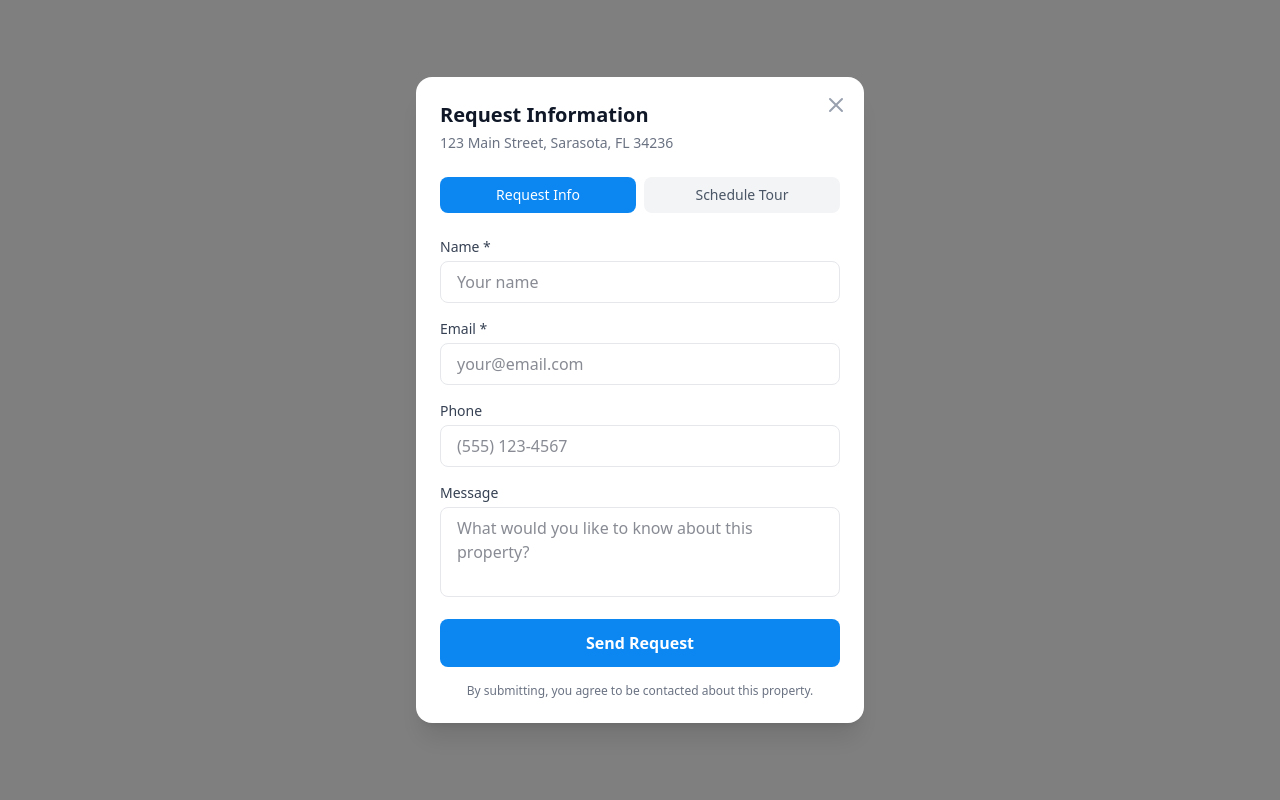
LeadCaptureModal › shows success message after successful submission
In the field labelled "Name *": (640, 282) 440,261 -> 840,303, type "Jane Doe"
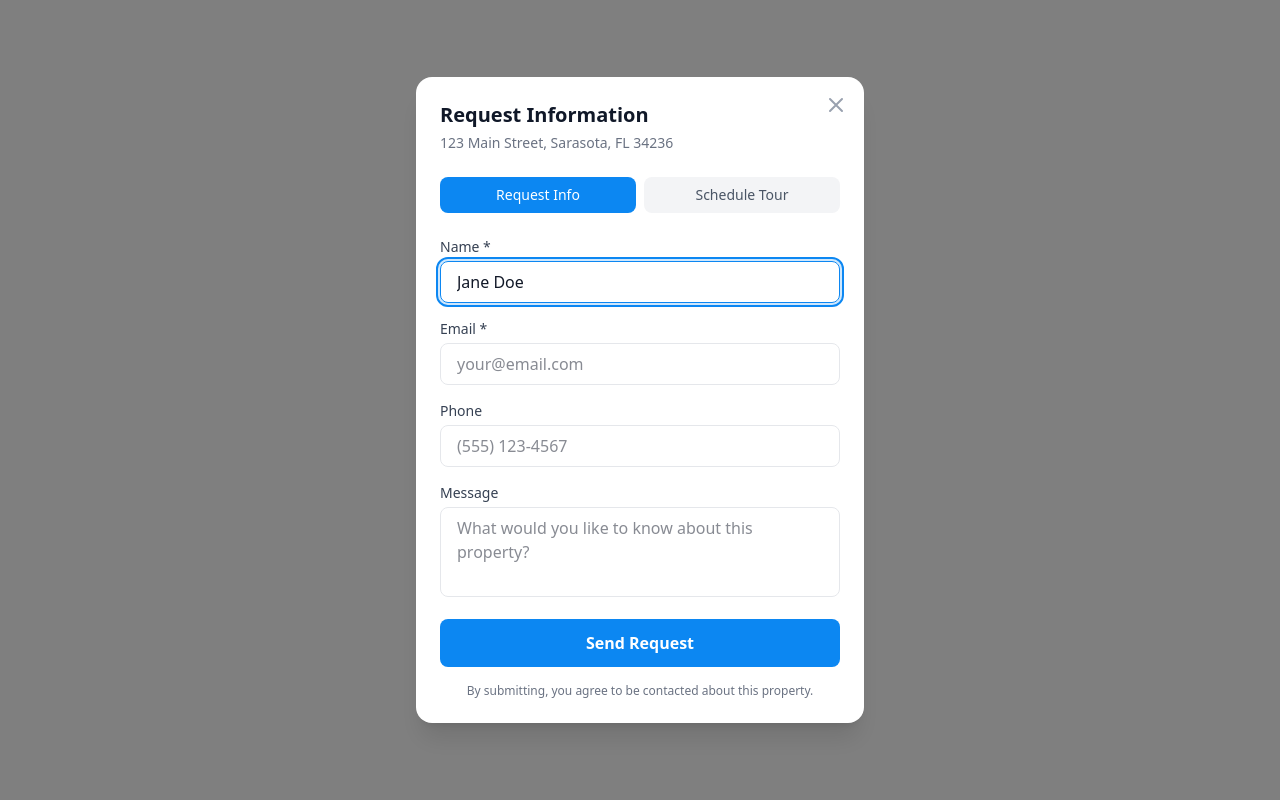
In the field labelled "Email *": (640, 364) 440,343 -> 840,385, type "jane@example.com"
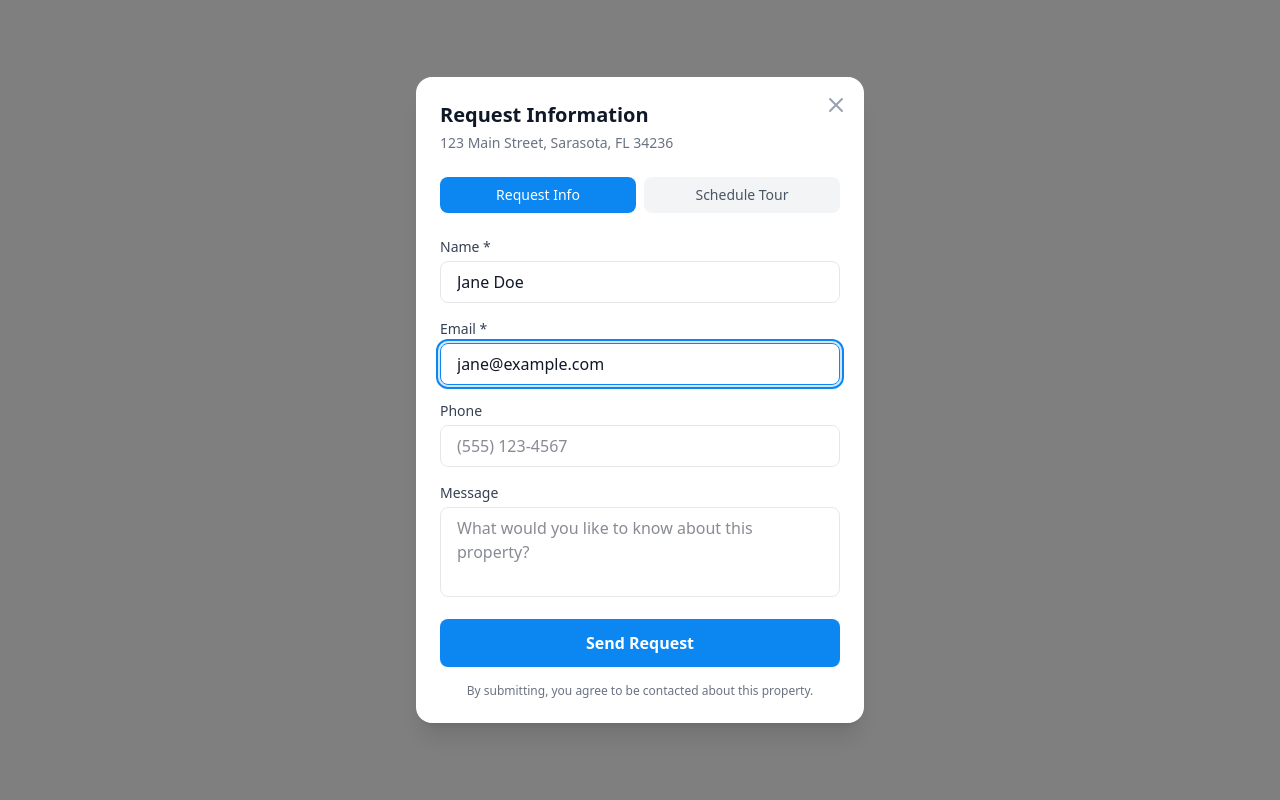
Click the button "Send Request": click(640, 643) 440,619 -> 840,667
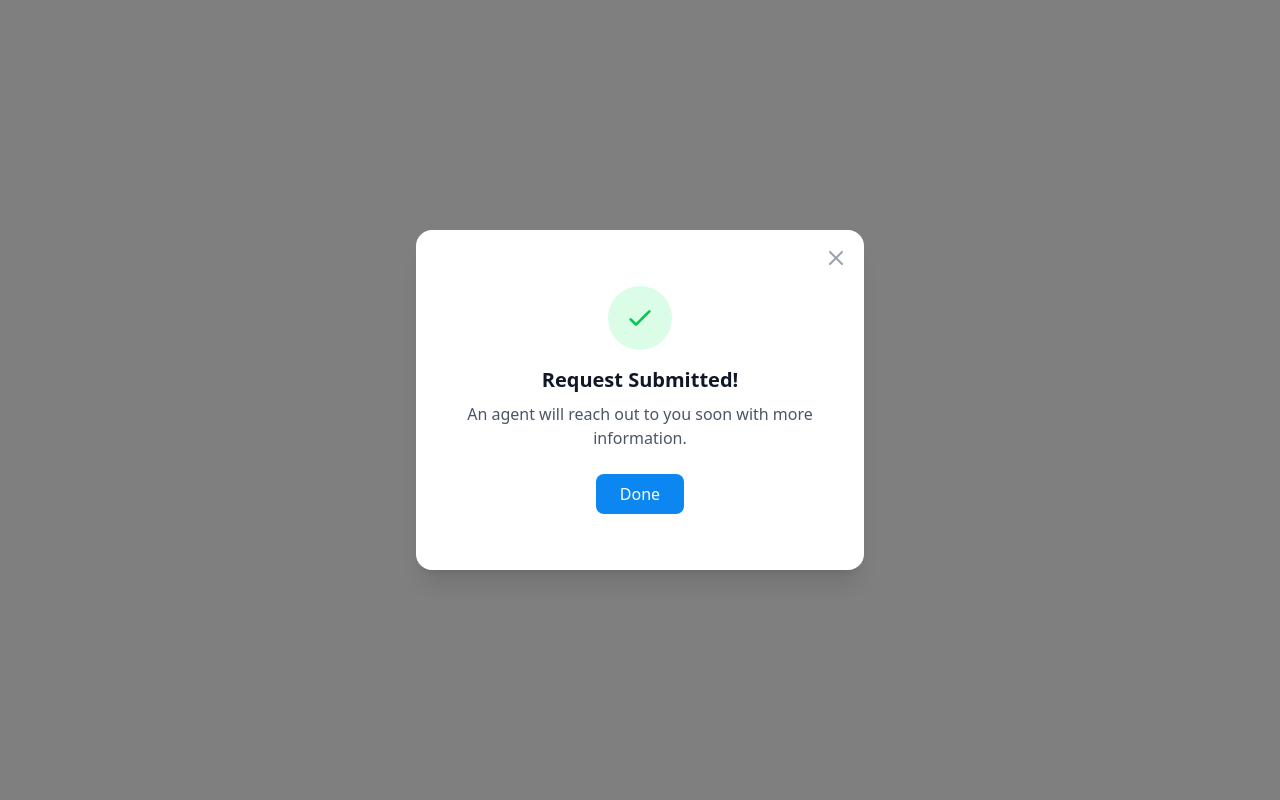
Now the heading "Request Submitted!" is shown, box 542,366 -> 738,393
